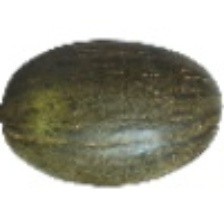honeydew: (52, 16, 193, 195)
